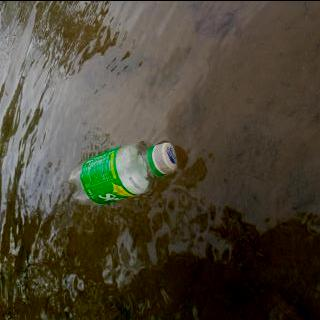bottle: (66, 140, 178, 205)
